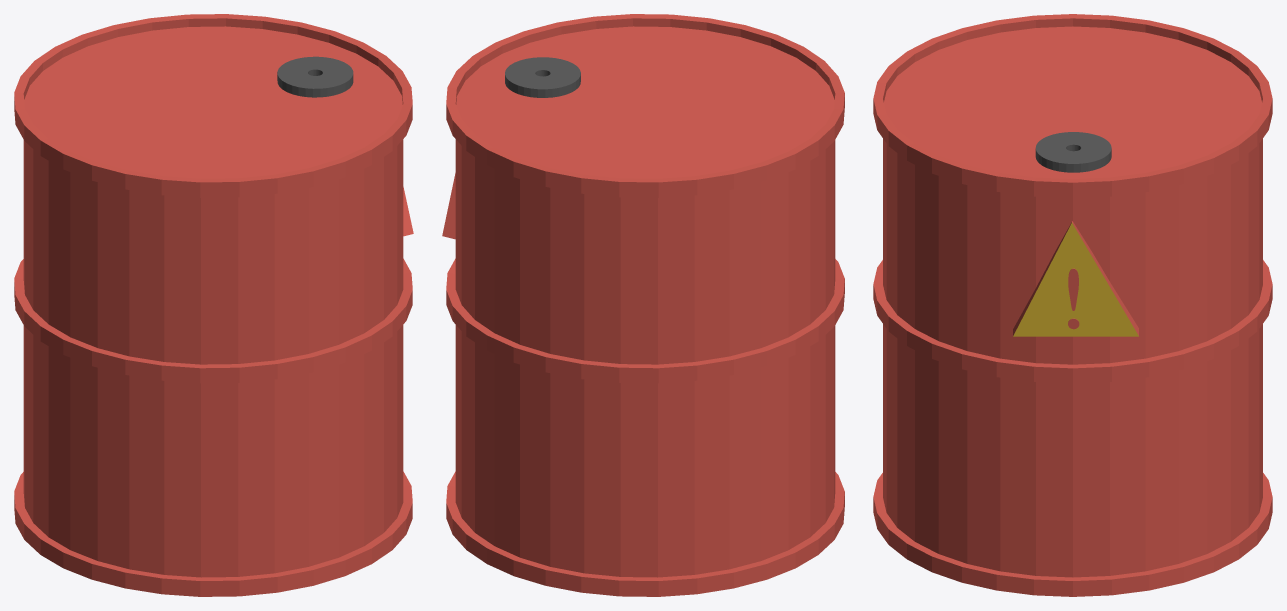
File: fuel_barrel.fbx
3 views of the same model, side by side, from view 1: azimuth 30°, elevation 25°; view 2: azimuth 150°, elevation 25°; view 3: azimuth 270°, elevation 25° (orthographic).
Parts seen in each view (by area): view 1: fuel barrel; view 2: fuel barrel; view 3: fuel barrel.
Boxes of the visible parts, x1,y1,x2,y2 form: fuel barrel: (14,14,413,596); fuel barrel: (442,14,844,596); fuel barrel: (873,14,1272,596).
Bounding box in the file's own units: 21.07 × 24.06 × 21.
